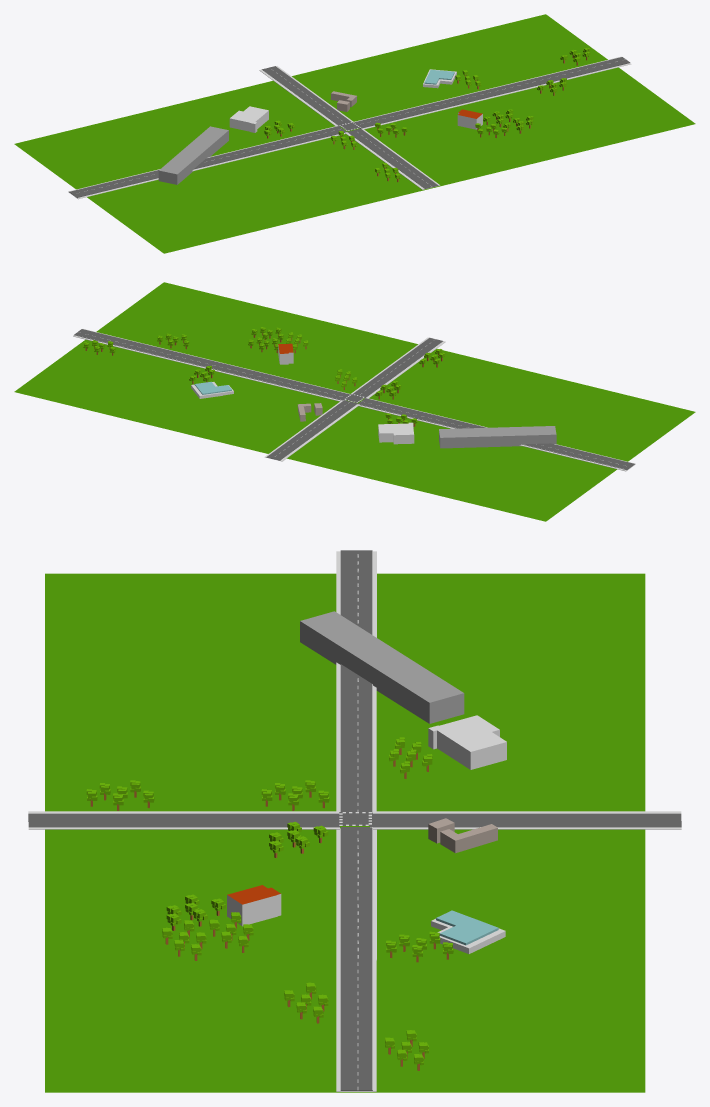
Rendered from Elmwood.fbx.
3 renders of one model, top to bottom at view 1: azimuth 30°, elevation 25°; view 2: azimuth 150°, elevation 25°; view 3: azimuth 270°, elevation 25°, orthographic. The views are drawn at different scales.
Parts seen in each view (by area): view 1: persp2; view 2: persp2; view 3: persp2.
Boxes of the visible parts, x1=… form: persp2: x1=14, y1=14, x2=695, y2=253; persp2: x1=14, y1=282, x2=695, y2=521; persp2: x1=28, y1=550, x2=681, y2=1092.
Bounding box in the file's own units: 190 × 4.64 × 97.24.
